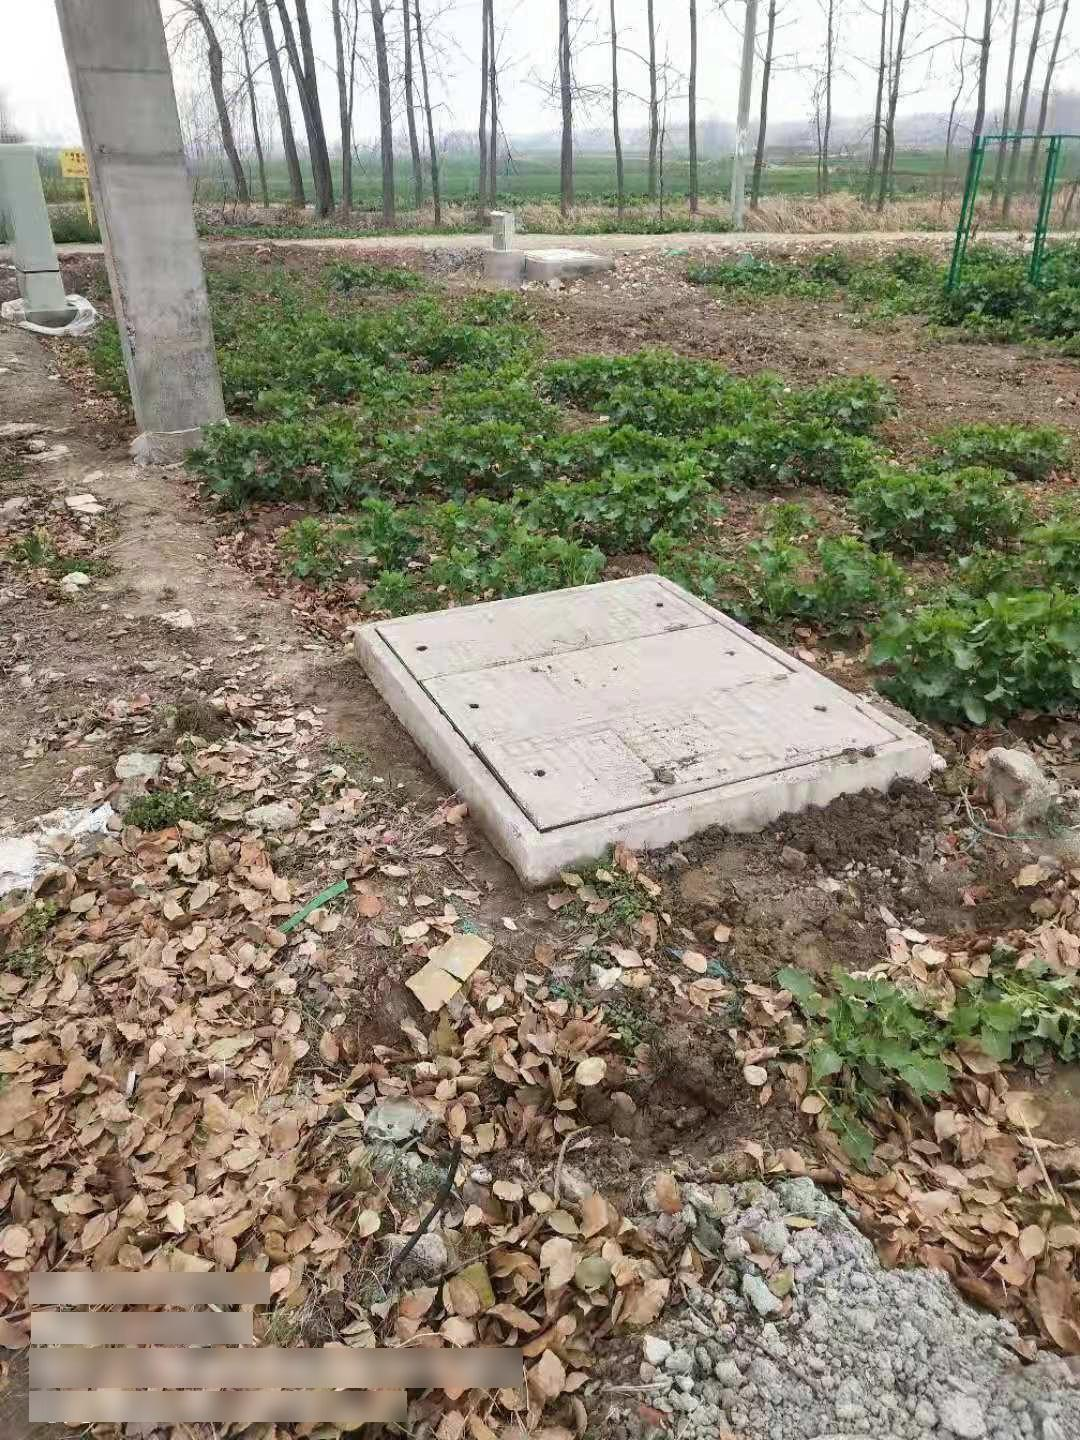wellcover: (371, 551, 920, 875)
